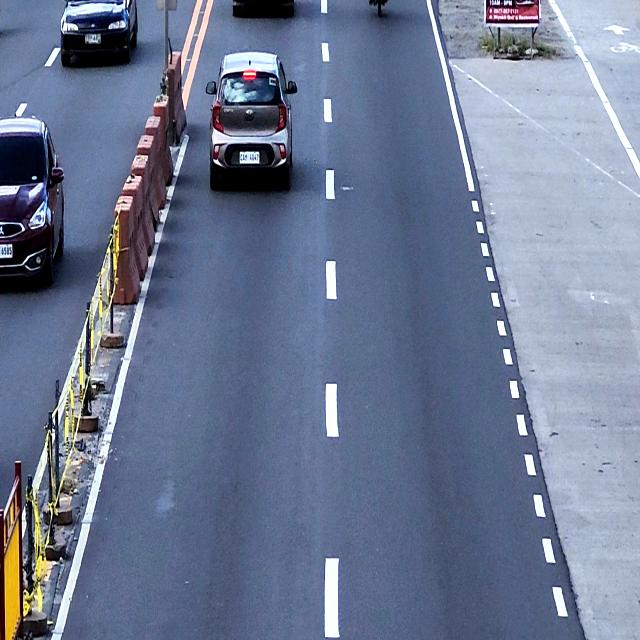Car: (206, 51, 298, 192), (0, 117, 64, 290), (59, 0, 140, 64)
License-Plate: (239, 150, 260, 165), (85, 33, 102, 45), (0, 244, 13, 259)
